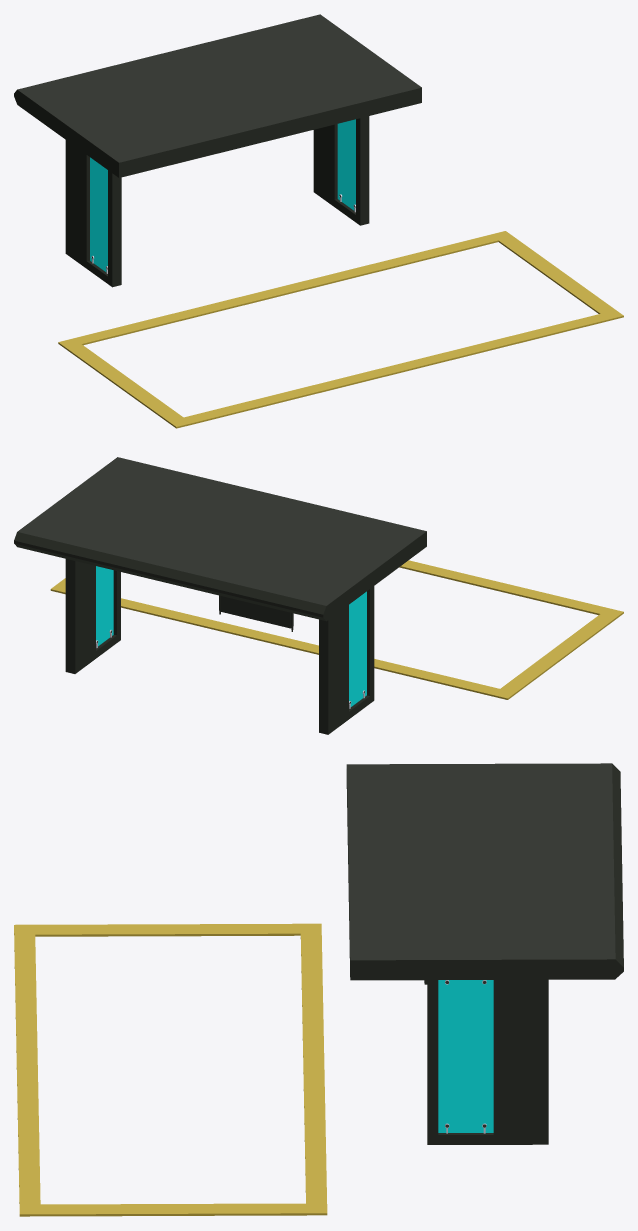
The model's file is Bus_Stop.glb.
3 views of the same model, one above another, from view 1: azimuth 30°, elevation 25°; view 2: azimuth 150°, elevation 25°; view 3: azimuth 270°, elevation 25° (orthographic). The views are drawn at different scales.
Parts seen in each view (by area): view 1: BusStop; view 2: BusStop; view 3: BusStop.
Boxes of the visible parts, x1,y1,x2,y2 form: BusStop: [14, 14, 623, 428]; BusStop: [14, 457, 623, 734]; BusStop: [14, 763, 623, 1216].
Size of what is drawn, in the model's own units: 12.24 by 4.06 by 10.85.
1 material, 1 textured.
